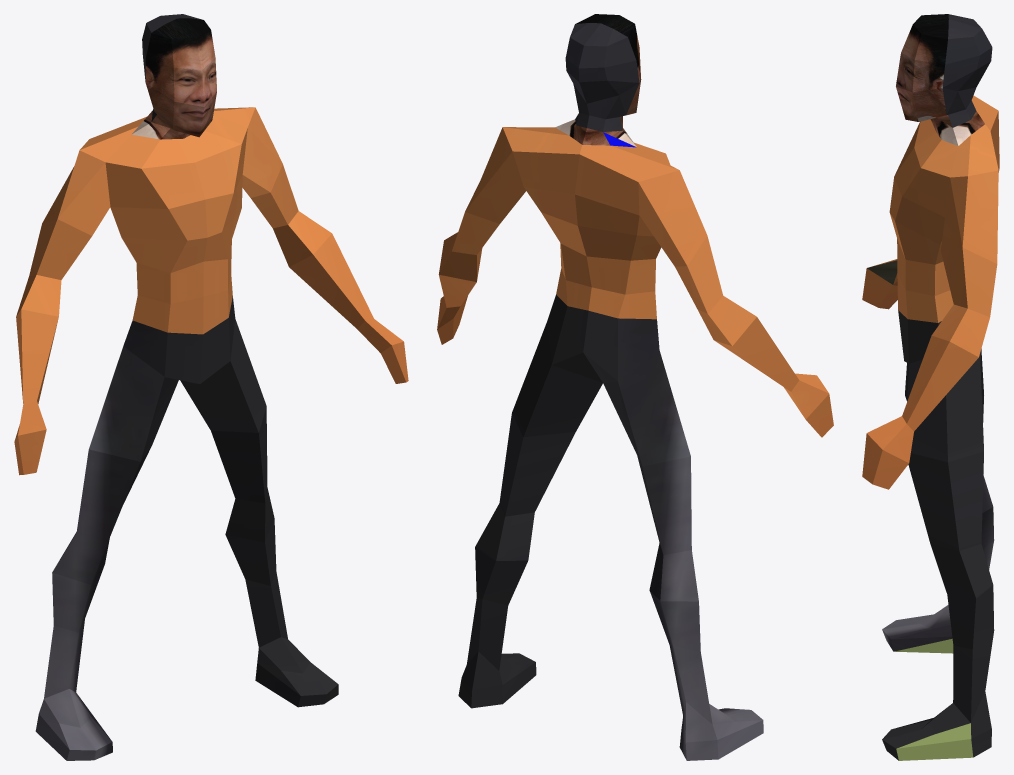
3 views of the same model, side by side, from view 1: azimuth 30°, elevation 25°; view 2: azimuth 150°, elevation 25°; view 3: azimuth 270°, elevation 25° (orthographic). The views are drawn at different scales.
Visible parts, largest first — view 1: BASE_Low_Poly_Man_Cube.001; view 2: BASE_Low_Poly_Man_Cube.001; view 3: BASE_Low_Poly_Man_Cube.001.
Boxes of the visible parts, bbox=[...] form: BASE_Low_Poly_Man_Cube.001: bbox=[14, 14, 408, 760]; BASE_Low_Poly_Man_Cube.001: bbox=[437, 14, 833, 760]; BASE_Low_Poly_Man_Cube.001: bbox=[862, 14, 999, 760].
Size of the model in its own units: 317 by 542 by 99.74.
